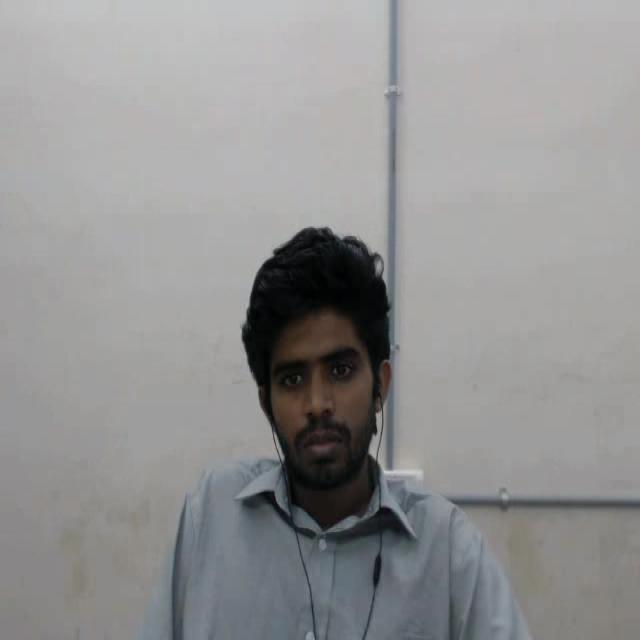Engaged: (218, 212, 440, 549)
